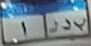1: (19, 20, 29, 36)
baa: (74, 18, 86, 31)
daal: (61, 18, 72, 31)
raa: (48, 19, 59, 34)
